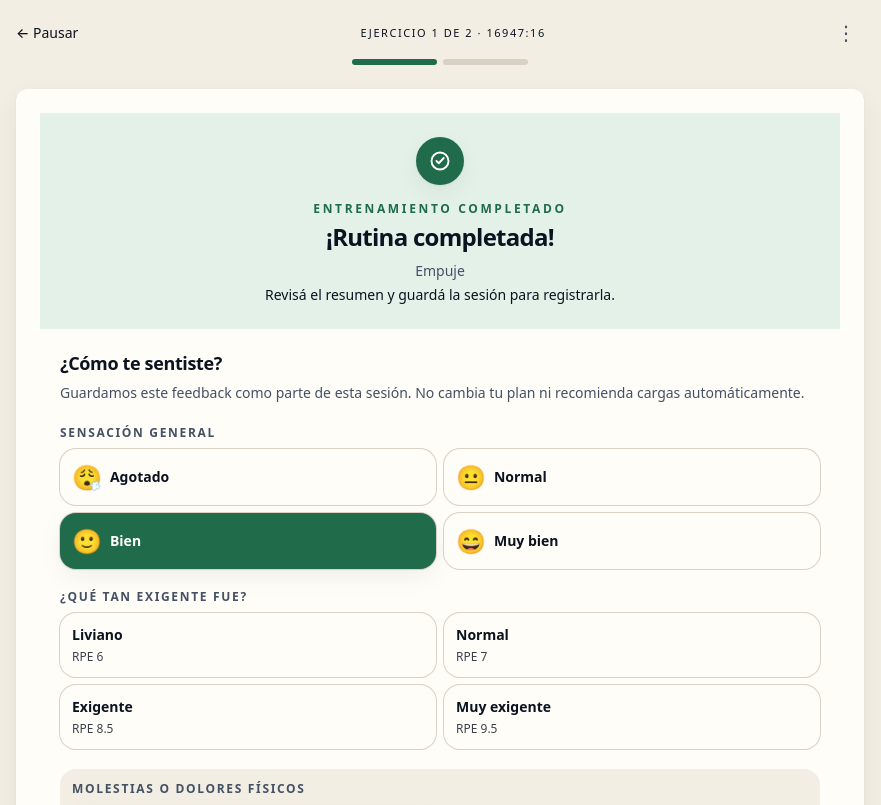
Test case: GuidedSessionPlayerPage › degrades safely when sessionStorage is unavailable
Click the button with test id "close-effort-exigente" at (102, 706), box [60, 685, 436, 749]
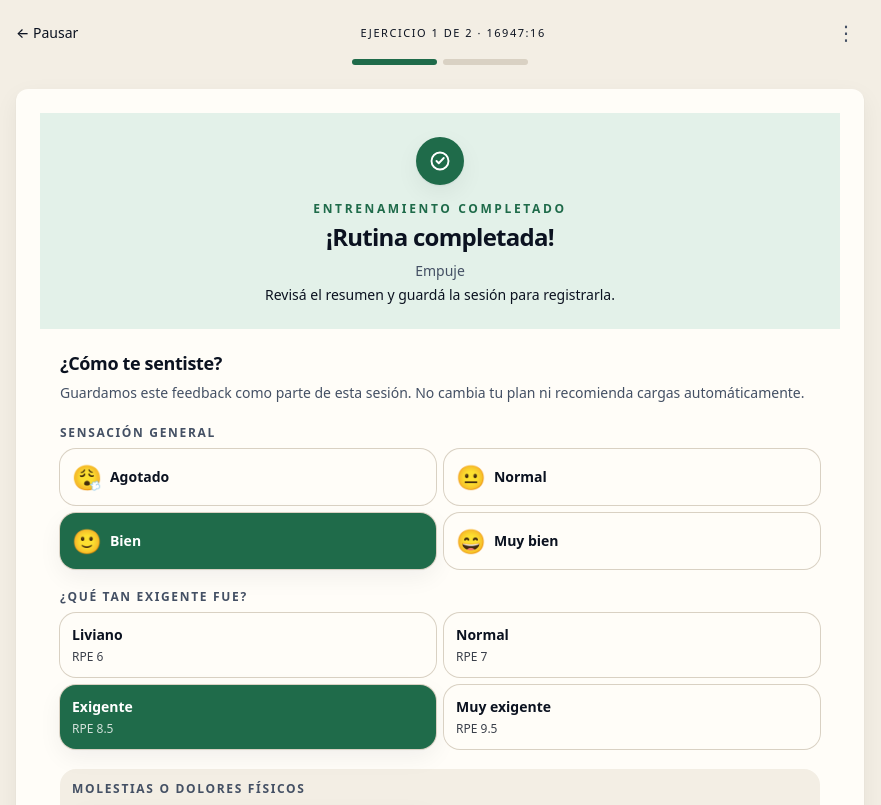
Click the button with test id "close-mood-good" at (126, 540), box [60, 513, 436, 569]
(page scrolled)
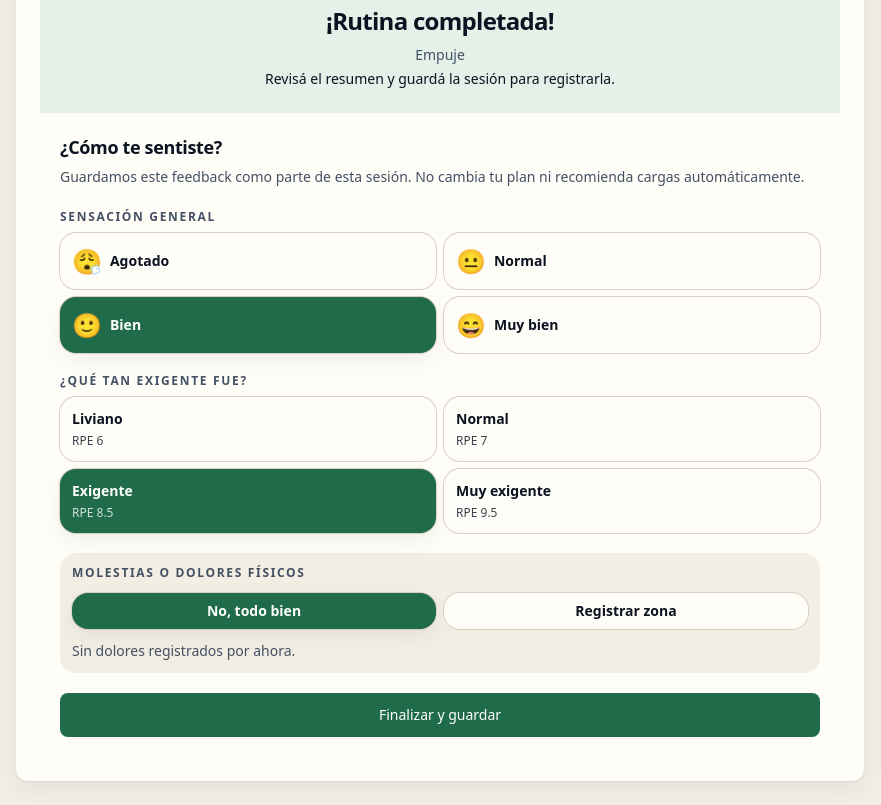
Click the button with test id "close-save" at (440, 715), box [60, 693, 820, 737]
(page scrolled)
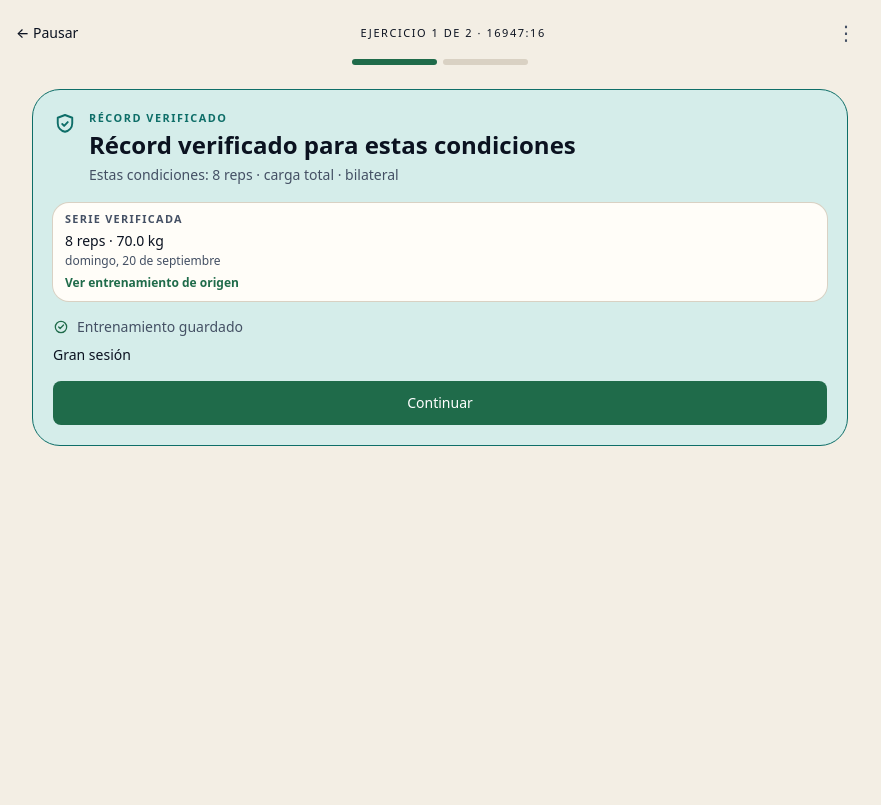
Expected: the element with test id "verified-pr-celebration" is shown, [32, 89, 848, 446]
